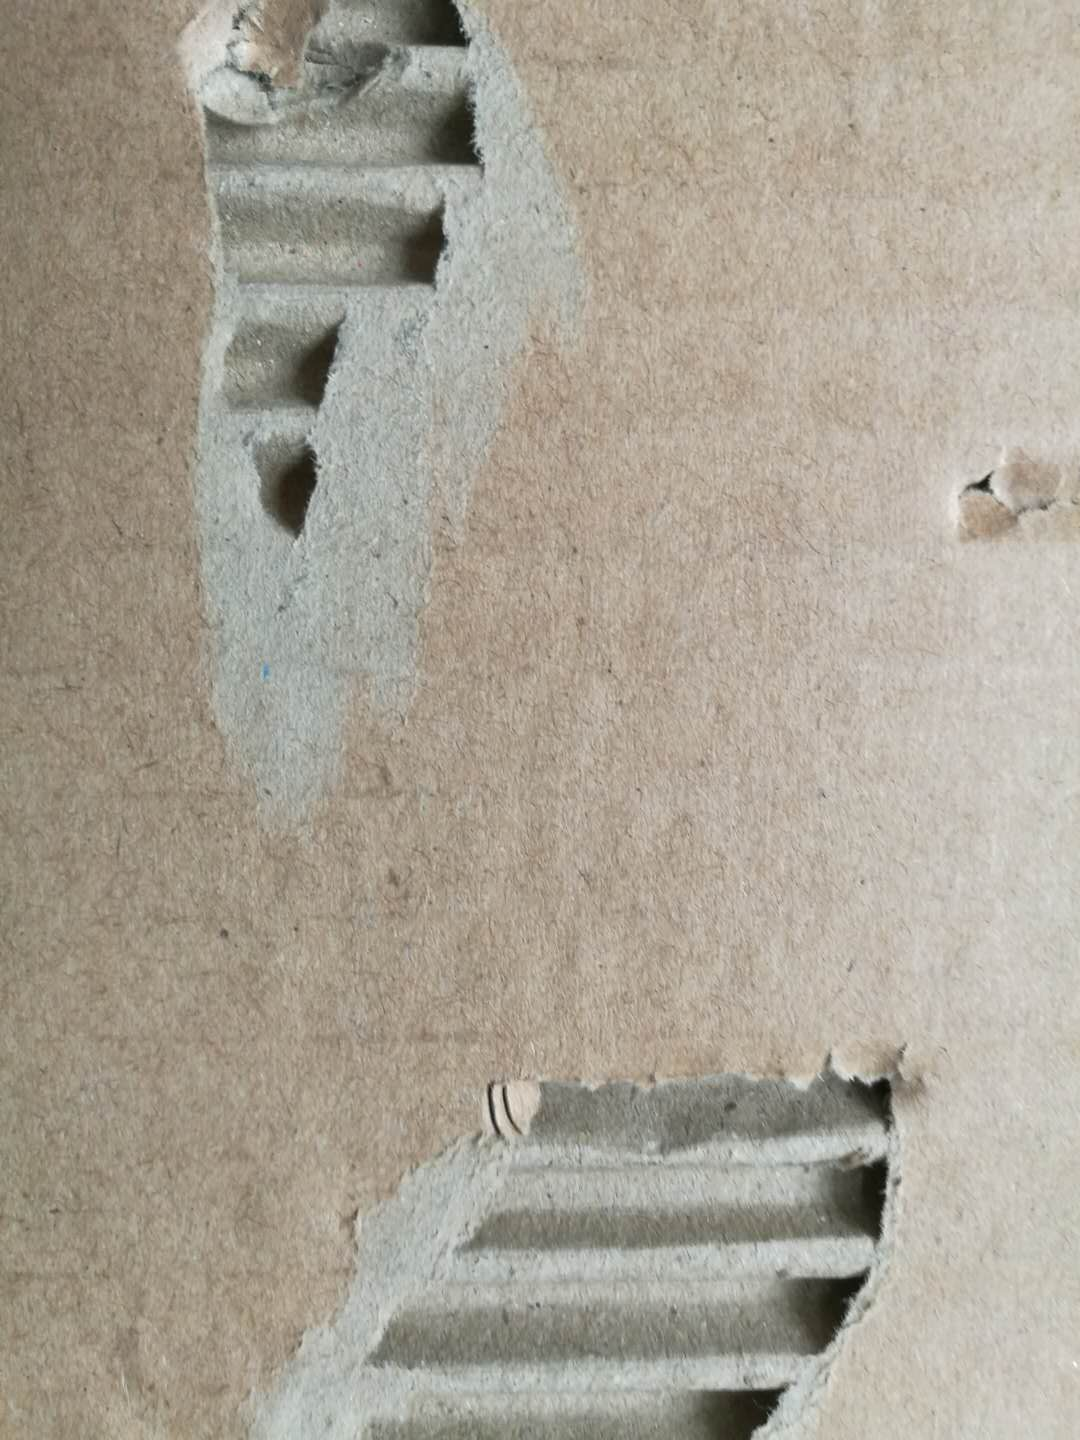defect: (123, 2, 619, 870), (185, 1020, 974, 1440), (922, 421, 1080, 596)
